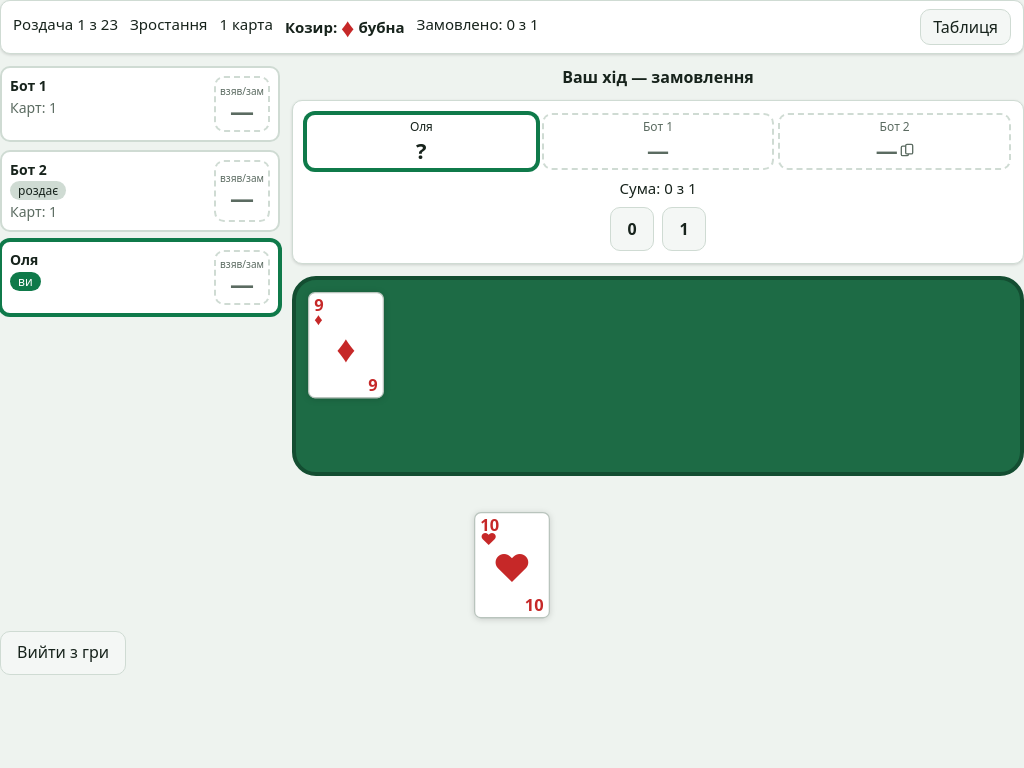
Test case: опції кімнати на ігровому столі (§10) › R-10.1: без опцій таблиця каже, що гра за основними правилами
The image size is (1024, 768).
Step 1. Click the button "Таблиця" → (966, 27), box [920, 9, 1011, 45]
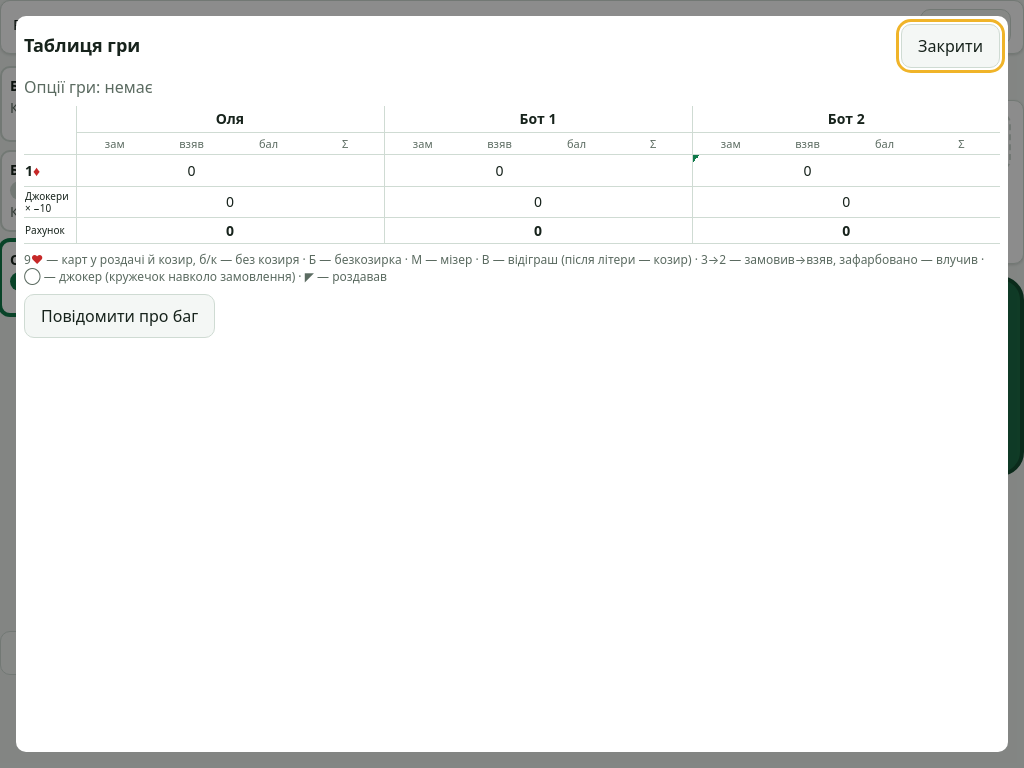
Result: the dialog "Таблиця гри" shows "Опції гри: немає" at [24, 76, 153, 98]
